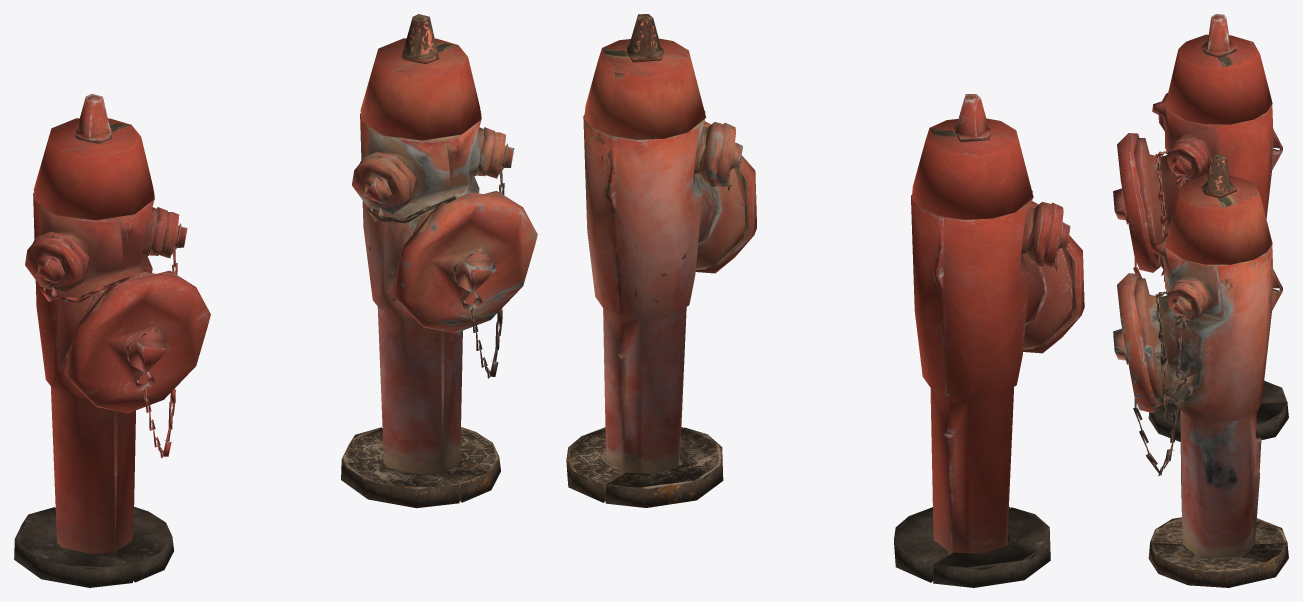
Rendered from fire_hydrant_1k.fbx.
3 renders of one model, left to right at view 1: azimuth 30°, elevation 25°; view 2: azimuth 150°, elevation 25°; view 3: azimuth 270°, elevation 25°, orthographic. The views are drawn at different scales.
Parts seen in each view (by area): view 1: fire_hydrant, fire_hydrant_aged, fire_hydrant_cap_01, fire_hydrant_cap_01_aged, fire_hydrant_cap_03_aged, fire_hydrant_cap_03, fire_hydrant_chain_aged, fire_hydrant_chain, fire_hydrant_cap_02, fire_hydrant_cap_02_aged; view 2: fire_hydrant, fire_hydrant_aged, fire_hydrant_cap_01, fire_hydrant_cap_01_aged, fire_hydrant_cap_03, fire_hydrant_cap_03_aged; view 3: fire_hydrant_aged, fire_hydrant, fire_hydrant_cap_01, fire_hydrant_cap_01_aged, fire_hydrant_chain_aged, fire_hydrant_cap_02, fire_hydrant_cap_02_aged, fire_hydrant_chain.
Boxes of the visible parts, x1,y1,x2,y2 form: fire_hydrant: (14,94,173,587); fire_hydrant_aged: (341,14,500,508); fire_hydrant_cap_01: (64,270,210,413); fire_hydrant_cap_01_aged: (391,191,537,333); fire_hydrant_cap_03_aged: (352,157,410,214); fire_hydrant_cap_03: (25,237,83,293); fire_hydrant_chain_aged: (367,146,505,378); fire_hydrant_chain: (40,226,178,458); fire_hydrant_cap_02: (159,212,187,258); fire_hydrant_cap_02_aged: (486,132,514,178); fire_hydrant: (894,94,1072,587); fire_hydrant_aged: (566,14,745,507); fire_hydrant_cap_01: (1023,201,1084,353); fire_hydrant_cap_01_aged: (695,121,756,273); fire_hydrant_cap_03: (1041,202,1070,266); fire_hydrant_cap_03_aged: (713,122,742,186); fire_hydrant_aged: (1135,154,1288,587); fire_hydrant: (1135,14,1288,441); fire_hydrant_cap_01: (1113,133,1160,272); fire_hydrant_cap_01_aged: (1113,273,1160,412); fire_hydrant_chain_aged: (1133,291,1193,476); fire_hydrant_cap_02: (1167,142,1205,180); fire_hydrant_cap_02_aged: (1167,282,1205,321); fire_hydrant_chain: (1133,151,1191,281).
Size of the model in its own units: 87.43 by 80.07 by 31.81.
Materials: 2 (2 with a texture image).
